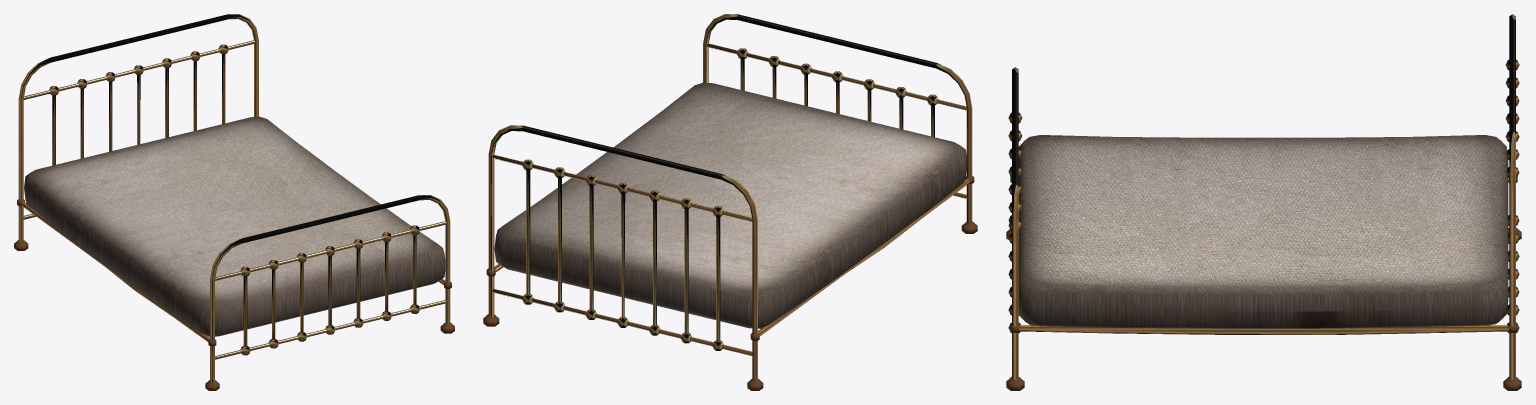
File: bed01.fbx
3 views of the same model, side by side, from view 1: azimuth 30°, elevation 25°; view 2: azimuth 150°, elevation 25°; view 3: azimuth 270°, elevation 25° (orthographic). The views are drawn at different scales.
Parts seen in each view (by area): view 1: bed01_a, bed01_c; view 2: bed01_a, bed01_c; view 3: bed01_a, bed01_c.
Part boxes in pixels (x1,y1,x2,y2): bed01_a: (14,14,454,390); bed01_c: (23,202,445,341); bed01_a: (483,14,977,390); bed01_c: (496,163,969,332); bed01_a: (1006,14,1521,390); bed01_c: (1018,178,1508,334).
Size of the model in its own units: 3.08 by 2.19 by 4.3.
